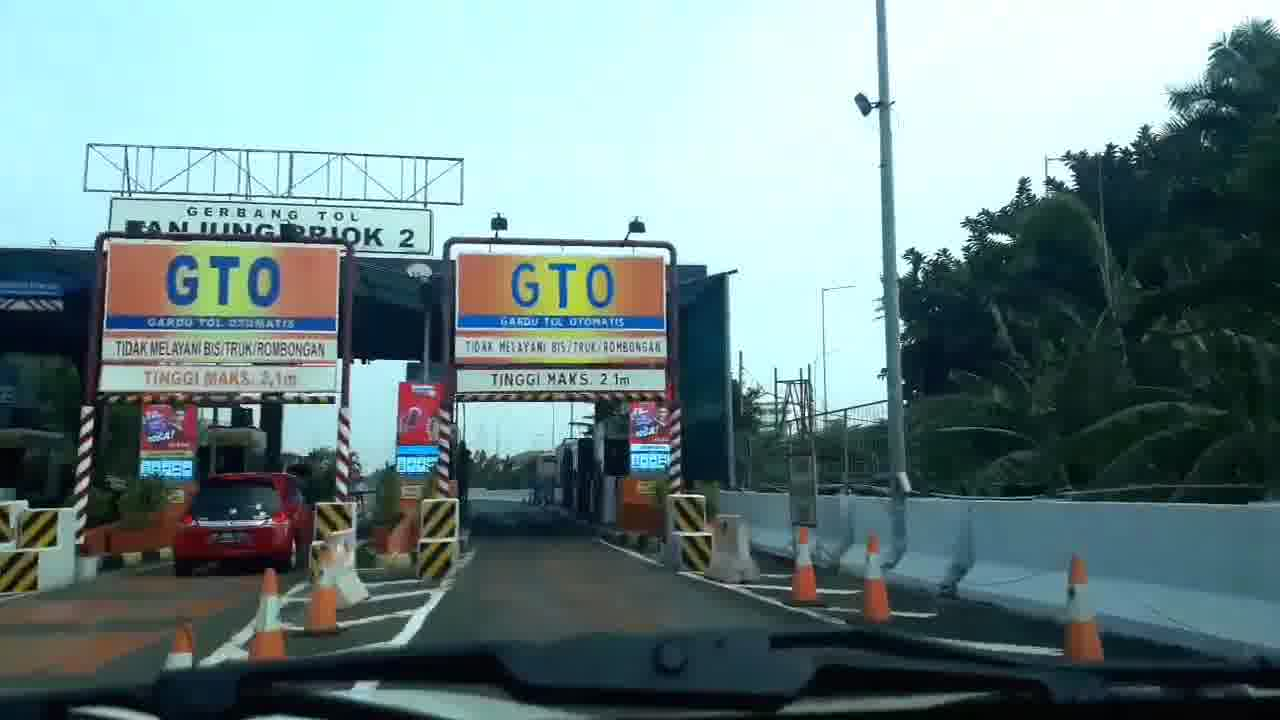plate_positive: (211, 531, 251, 544)
